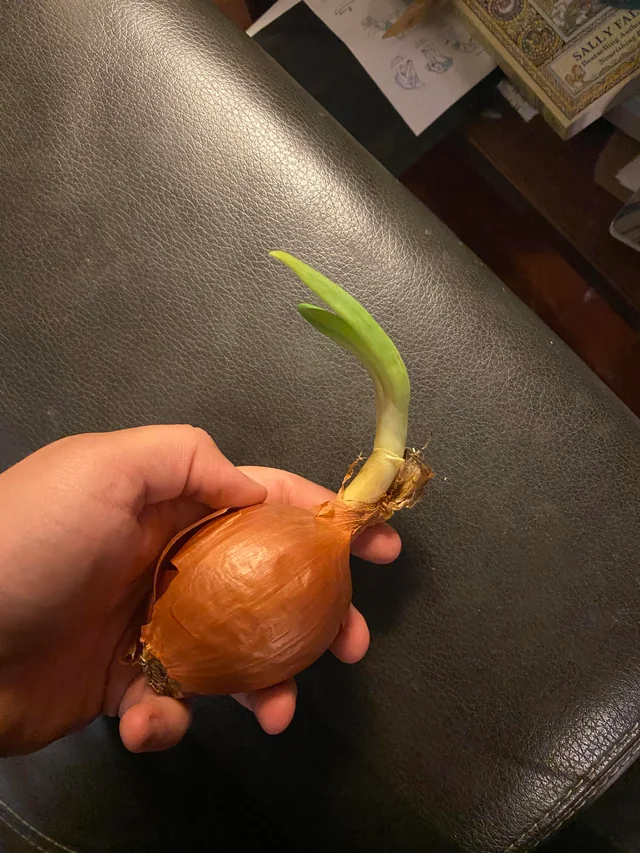onion: (113, 369, 484, 789)
